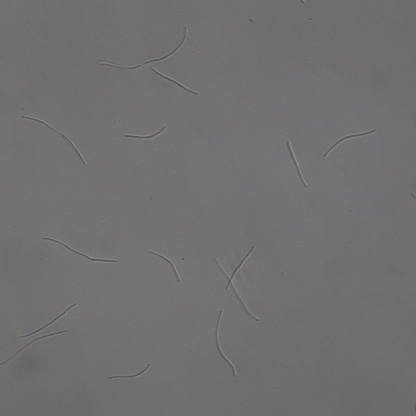Sensitive: (215, 244, 258, 319), (23, 116, 86, 166), (1, 331, 67, 367), (43, 237, 117, 267), (23, 303, 75, 335), (214, 311, 235, 376), (146, 29, 185, 63), (151, 68, 198, 96), (324, 130, 375, 154), (150, 250, 179, 281), (287, 141, 305, 188), (110, 365, 150, 381), (123, 127, 166, 140), (97, 59, 142, 71)
